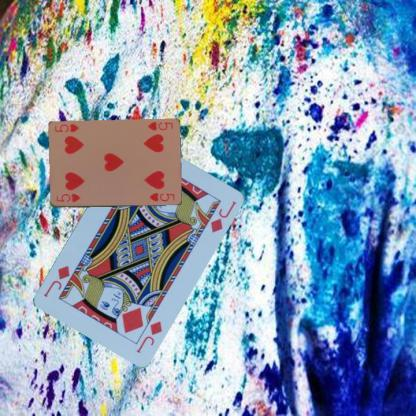5h: (145, 119, 174, 132), (54, 192, 81, 204)
Jd: (134, 318, 164, 354)
